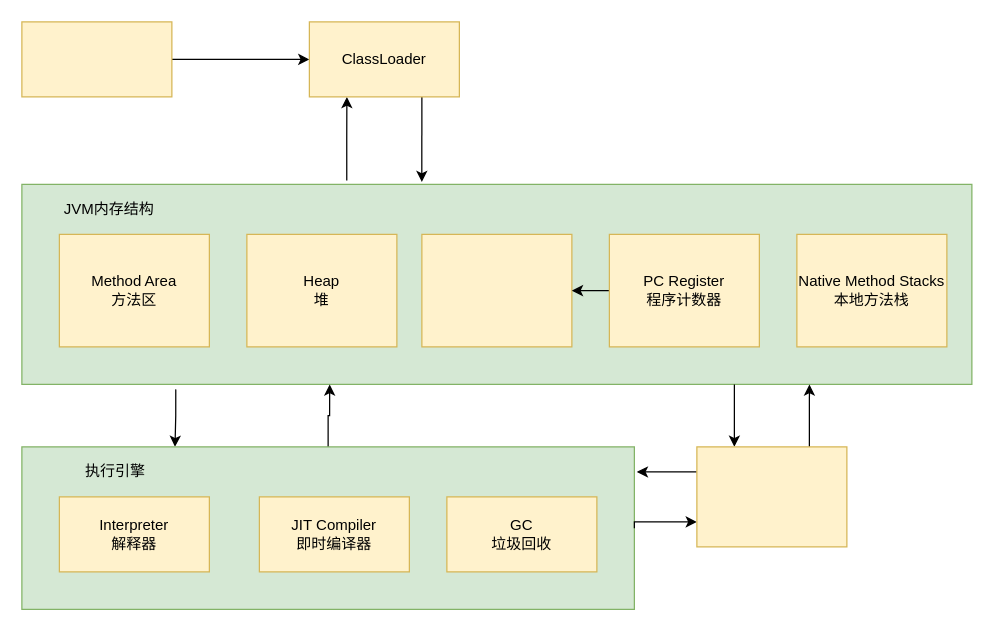
This 994x631 diagram has some shape labels left out. Here are the shapes that lost their labels. From the top down, the centre of each, then its label:
At [96,59]: "Java Class".
At [496,290]: "JVM Stacks 虚拟机栈".
At [771,496]: "本地方法接口".
